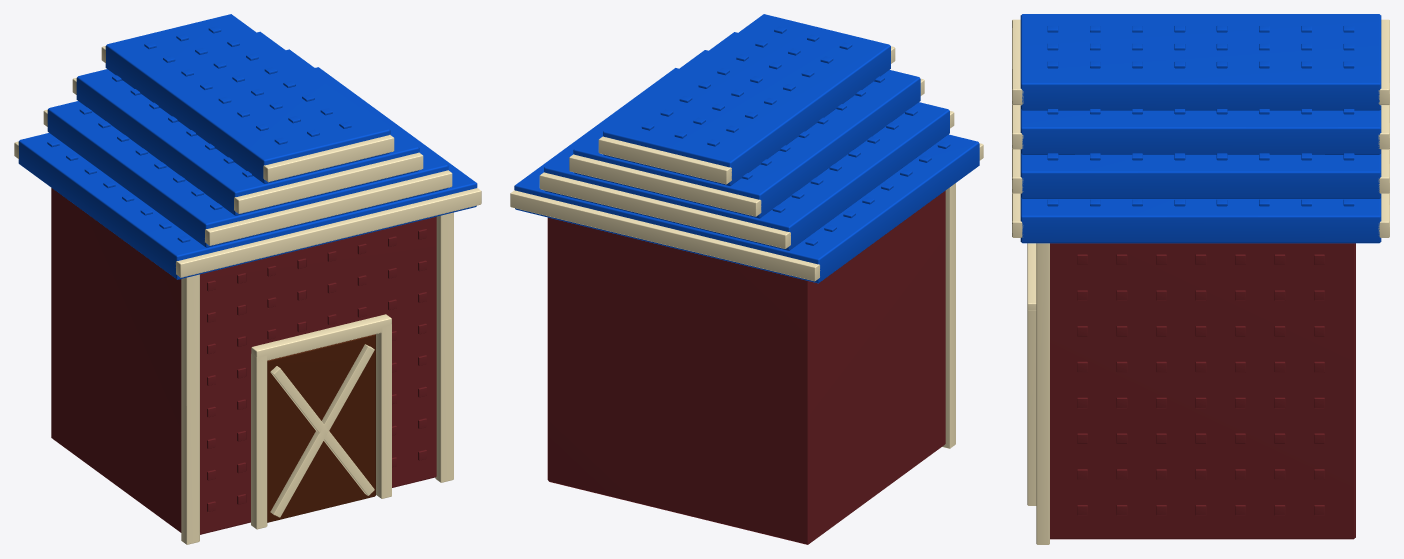
The model's file is BrickBarn.glb.
3 renders of one model, left to right at view 1: azimuth 30°, elevation 25°; view 2: azimuth 150°, elevation 25°; view 3: azimuth 270°, elevation 25°, orthographic. The views are drawn at different scales.
Visible parts, largest first — view 1: BrickBarn; view 2: BrickBarn; view 3: BrickBarn.
Boxes of the visible parts, bbox=[...] form: BrickBarn: bbox=[14, 14, 481, 544]; BrickBarn: bbox=[510, 14, 983, 544]; BrickBarn: bbox=[1012, 14, 1389, 544].
Bounding box in the file's own units: 7 × 8.33 × 6.7.
Materials: 1 (1 with a texture image).
